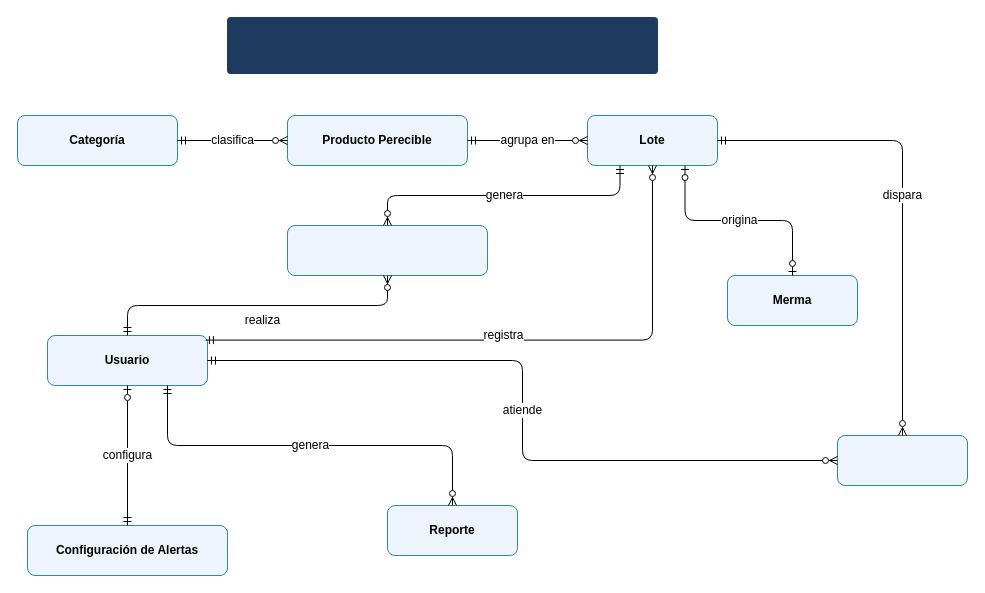
Some shapes in this 985 by 593 pixel diagram are drawn without their labels. The shapes that lost their labels are listed below. From the top down, each one's centre as x and y in pixels, then its label:
At (x=442, y=45): "Modelo Conceptual Sistema de Inventario de Productos Perecibles".
At (x=387, y=250): "Movimiento de Inventario".
At (x=902, y=460): "Alerta".
